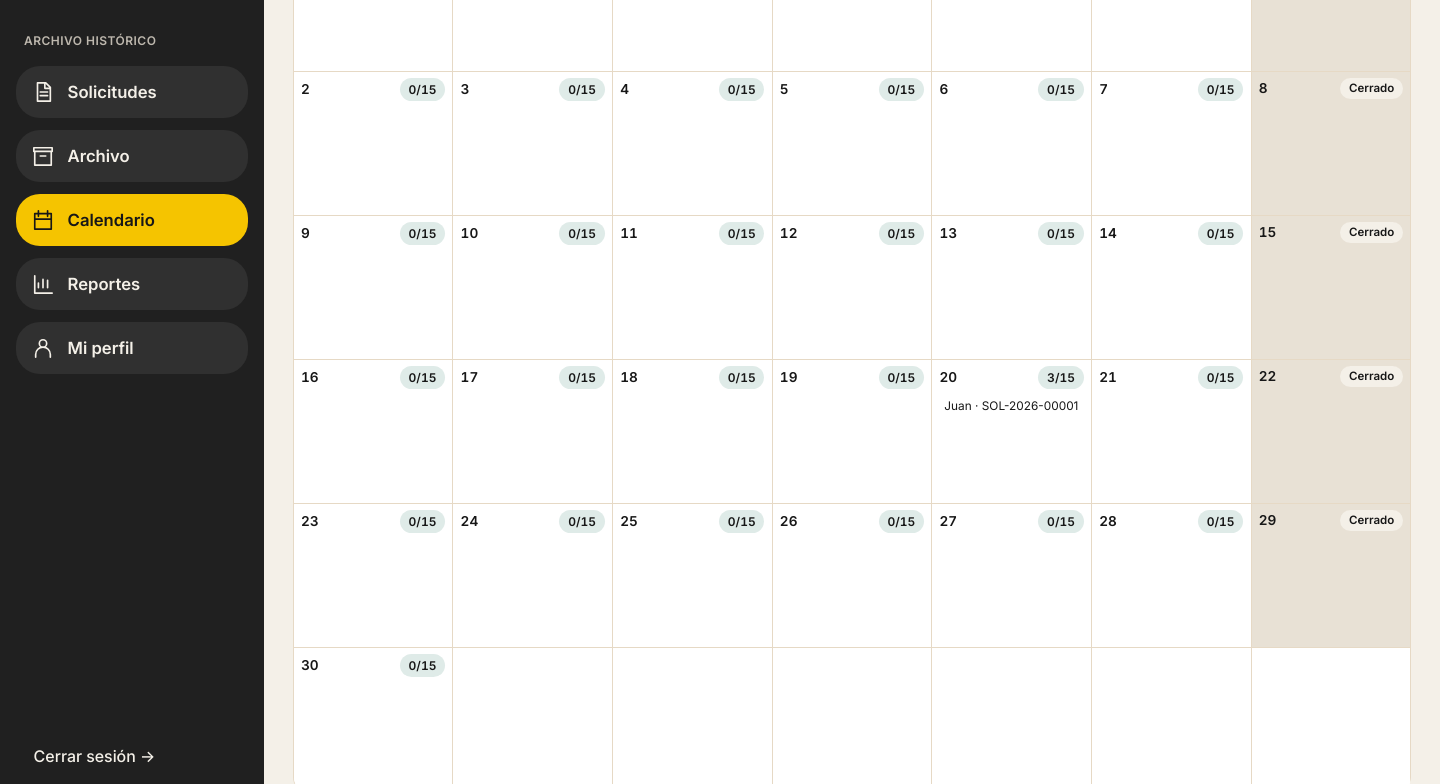
AppointmentsCalendarPage › shows the availability conflict error on the calendar screen when rescheduling fails (HU-21)
The image size is (1440, 784).
(page scrolled)
Click the button with aria-label "acta de fundación de la villa" at point(1012, 406), box [940, 394, 1084, 418]
(page scrolled)
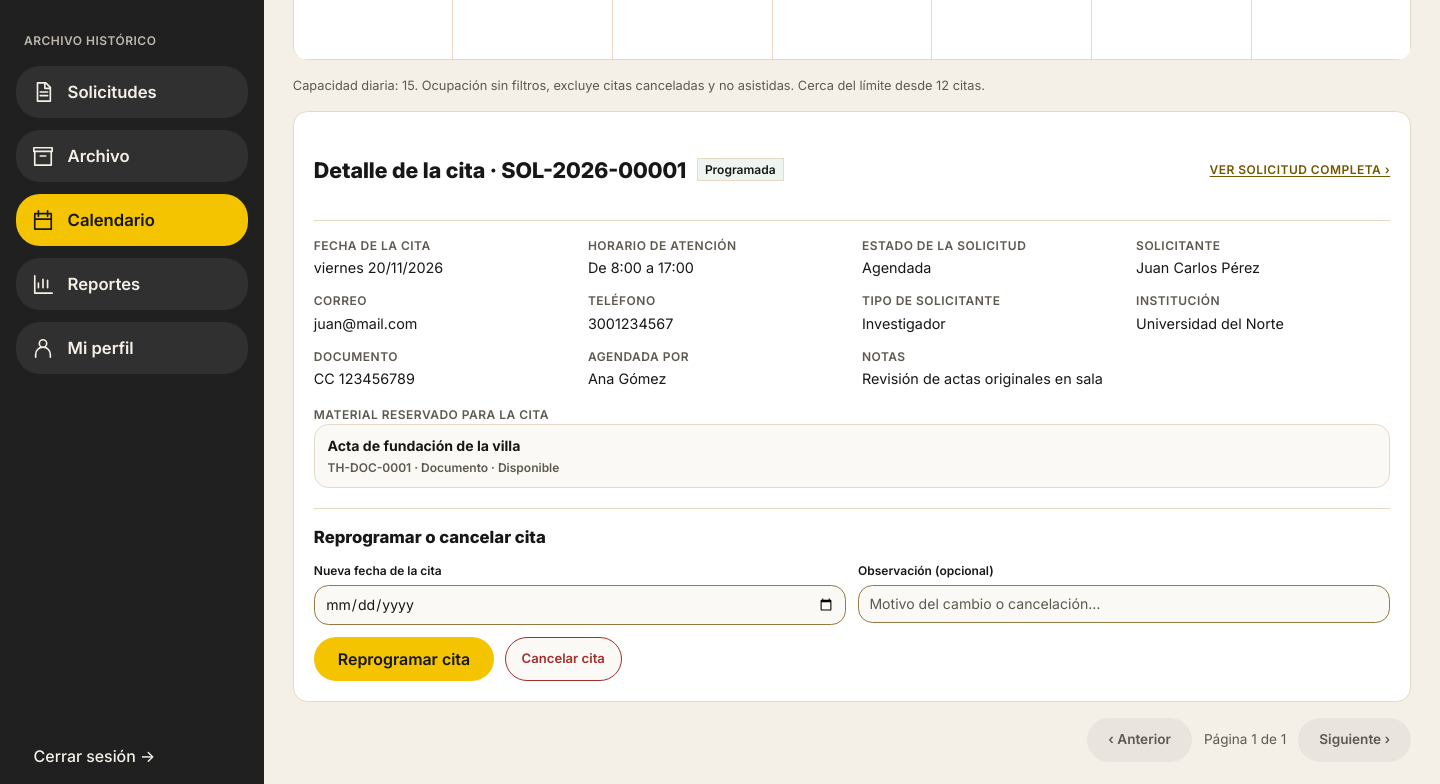
Type "2026-11-24" into the date field labelled "Nueva fecha de la cita" at point(580, 605), box [314, 585, 846, 625]
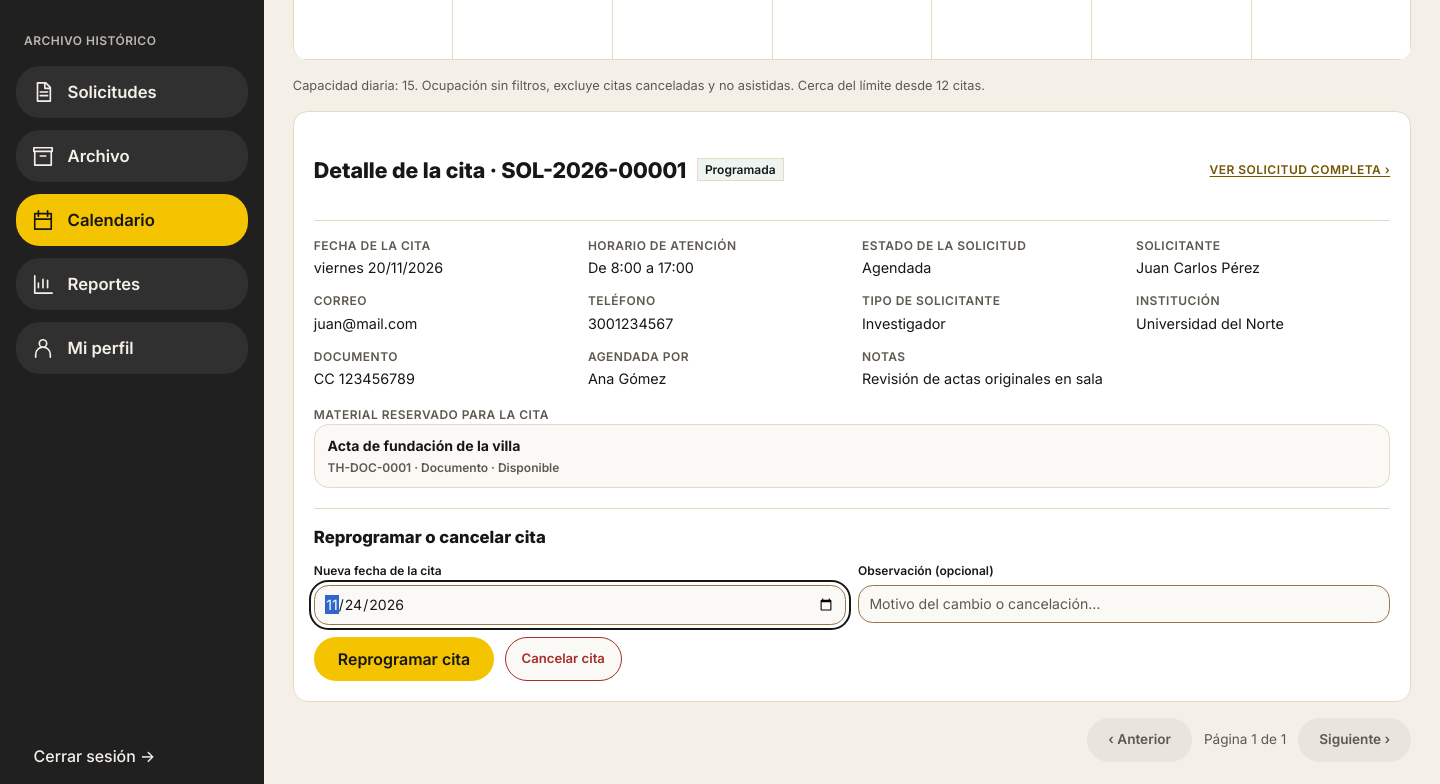
Click the button "Reprogramar cita" at point(404, 659), box [314, 637, 494, 681]
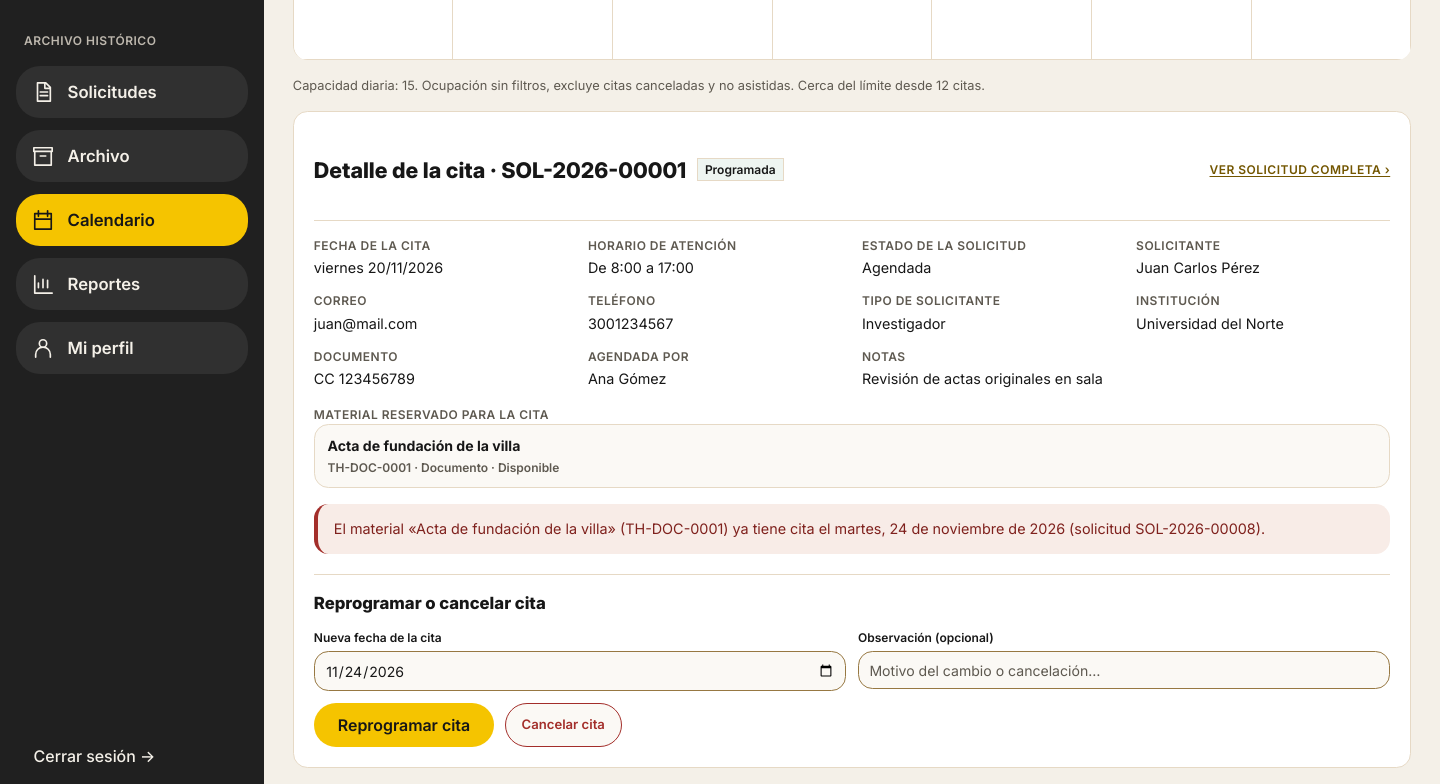
Result: the message shows "ya tiene cita el martes, 24 de noviembre de 2026" at [334, 520, 1265, 538]
